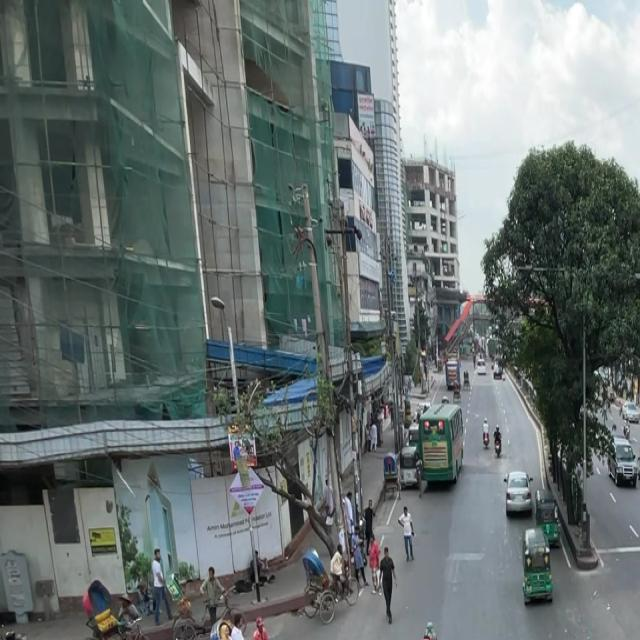car: (498, 461, 538, 524), (606, 439, 640, 489)
motorbike: (129, 627, 164, 640)
rickshaw: (513, 525, 560, 614), (534, 492, 566, 560)
